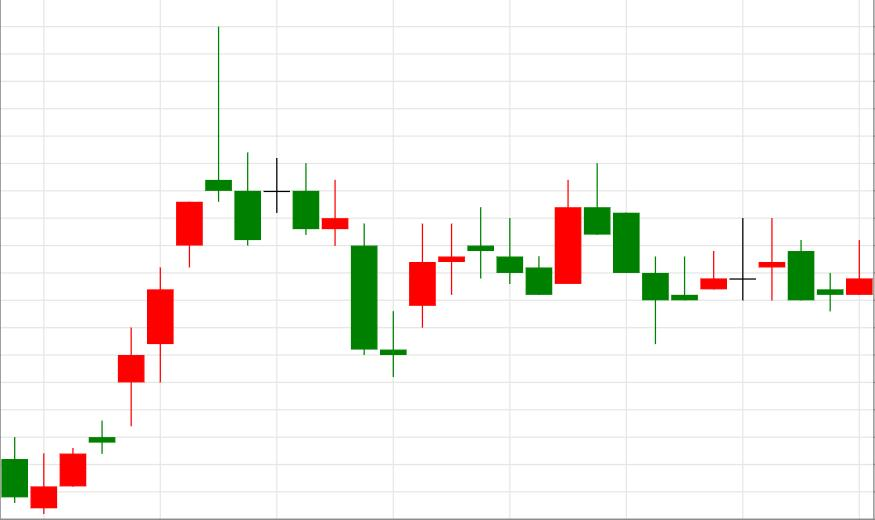evening_star_fall: (30, 27, 260, 515)
morning_star_rise: (264, 158, 435, 377)
